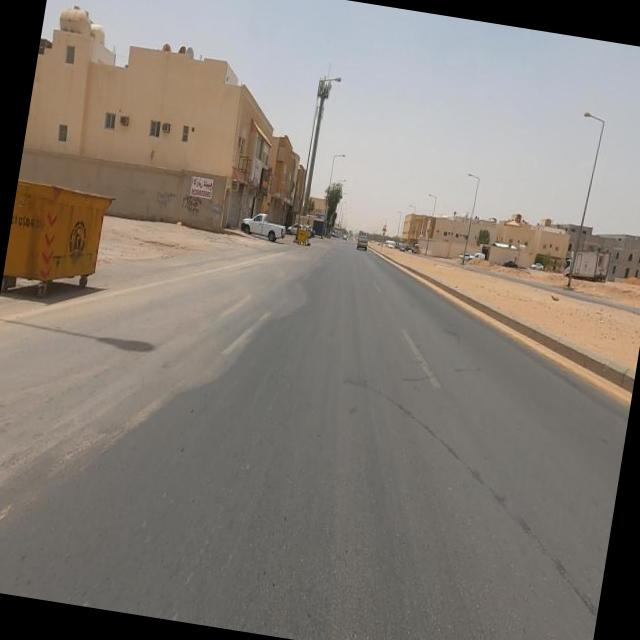debris: (125, 144, 202, 246), (161, 166, 229, 240)
